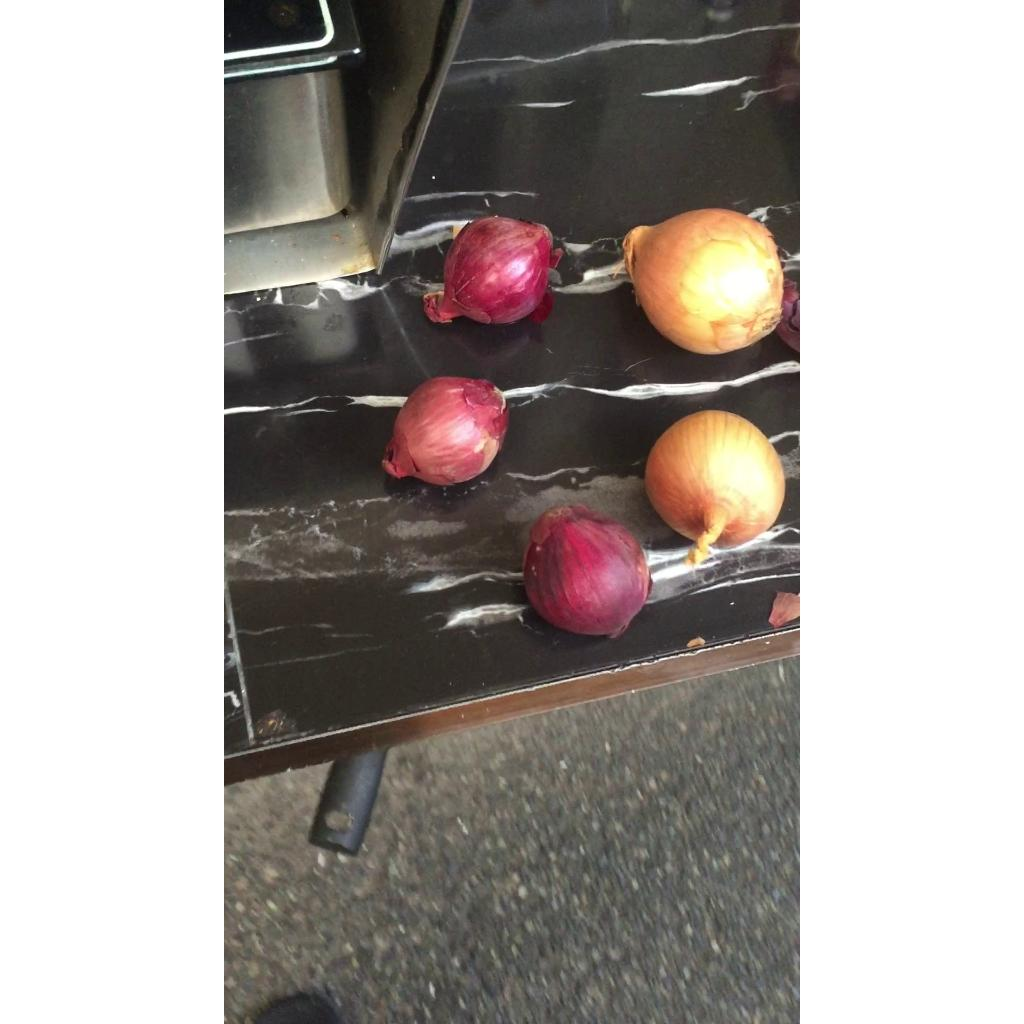Onion: (623, 208, 790, 353), (645, 411, 786, 566), (523, 505, 652, 638), (422, 215, 563, 323), (381, 377, 507, 485)
